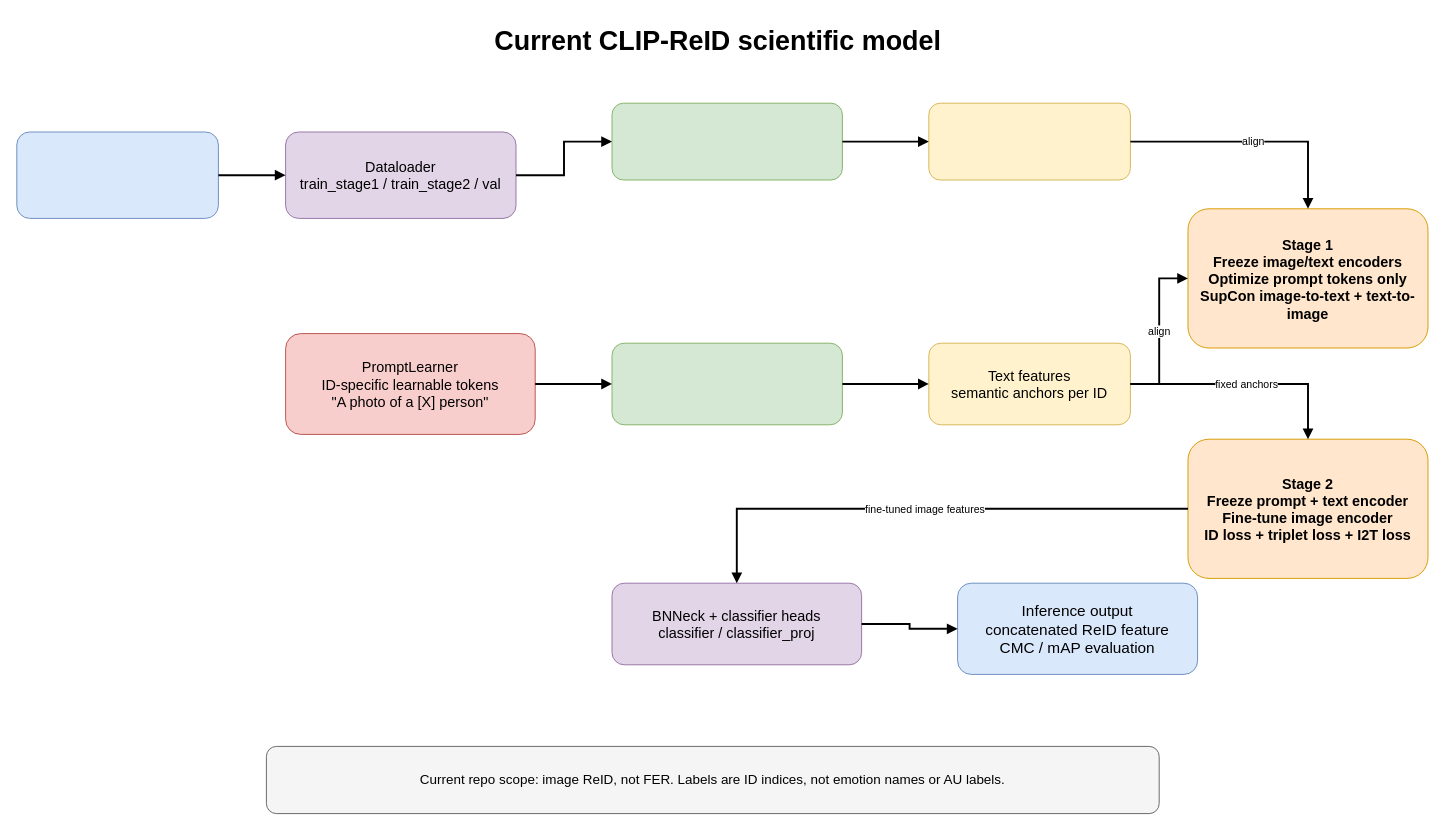
This 1445x830 diagram has some shape labels left out. Each missing label, with the box of its shape:
CLIP image encoder ViT-B/16 or RN50: (611, 102, 842, 180)
Frozen CLIP text encoder TextEncoder wrapper: (611, 342, 842, 425)
Image features last / projected: (928, 102, 1130, 180)
ReID image dataset person / vehicle IDs: (16, 131, 218, 218)
